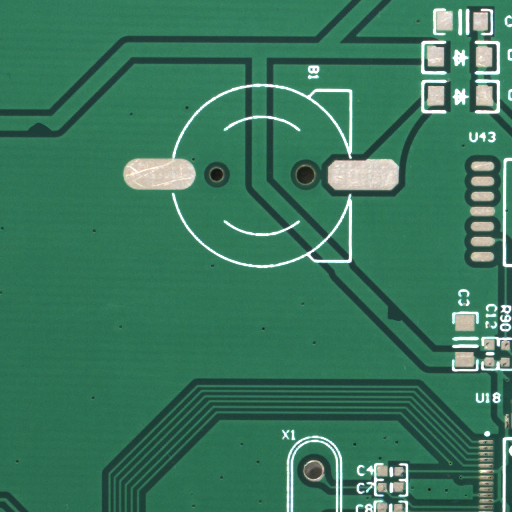Mouse_bite: (40, 128, 71, 147), (393, 312, 414, 337)
